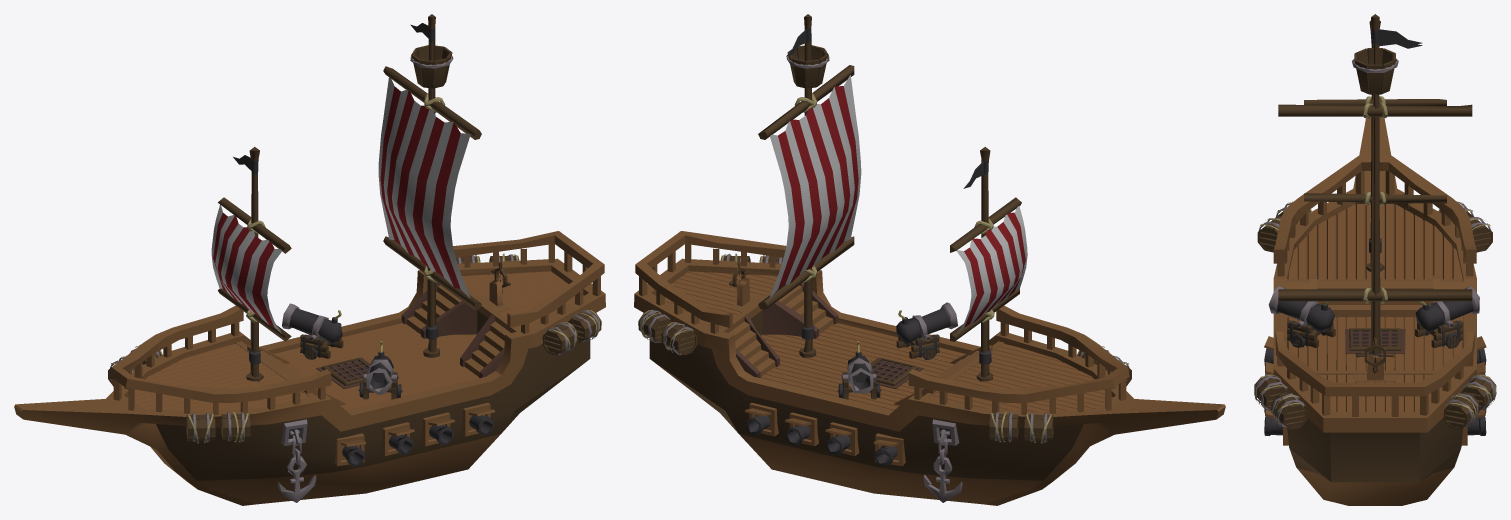
File: ship-large.glb
The picture shows the model from 3 angles, left to right: view 1: azimuth 30°, elevation 25°; view 2: azimuth 150°, elevation 25°; view 3: azimuth 270°, elevation 25°; orthographic projection. The views are drawn at different scales.
Visible parts, largest first — view 1: Ship_Large; view 2: Ship_Large; view 3: Ship_Large.
Boxes of the visible parts, <box> form: Ship_Large: <box>14,14,605,505</box>; Ship_Large: <box>634,14,1225,505</box>; Ship_Large: <box>1254,14,1496,505</box>.
Bounding box in the file's own units: 15.43 × 11.48 × 5.29.
